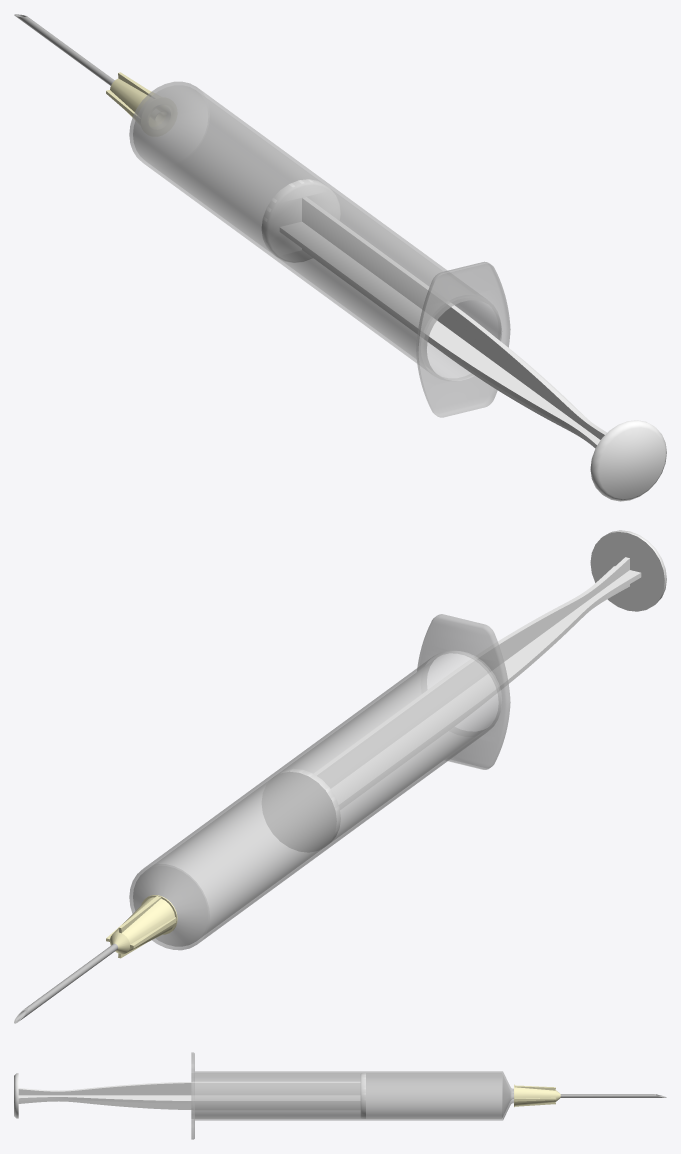
File: SyringeCGT.fbx
The picture shows the model from 3 angles, top to bottom: view 1: azimuth 30°, elevation 25°; view 2: azimuth 150°, elevation 25°; view 3: azimuth 270°, elevation 25°; orthographic projection. The views are drawn at different scales.
Parts seen in each view (by area): view 1: Group_002, Group_005, Group_003, Group_001; view 2: Group_002, Group_005, Group_003, Group_001; view 3: Group_002, Group_005, Group_001, Group_003.
Part boxes in pixels (box(x1,y1,x2,y2)): Group_002: box(129, 81, 510, 417); Group_005: box(262, 179, 606, 448); Group_003: box(590, 420, 666, 501); Group_001: box(14, 14, 166, 126); Group_002: box(129, 614, 510, 950); Group_005: box(262, 557, 641, 852); Group_003: box(590, 530, 666, 611); Group_001: box(14, 895, 177, 1023); Group_002: box(191, 1052, 513, 1139); Group_005: box(18, 1073, 365, 1118); Group_001: box(514, 1084, 666, 1107); Group_003: box(14, 1073, 18, 1118).
Size of the model in its own units: 29.27 by 43.62 by 340.
